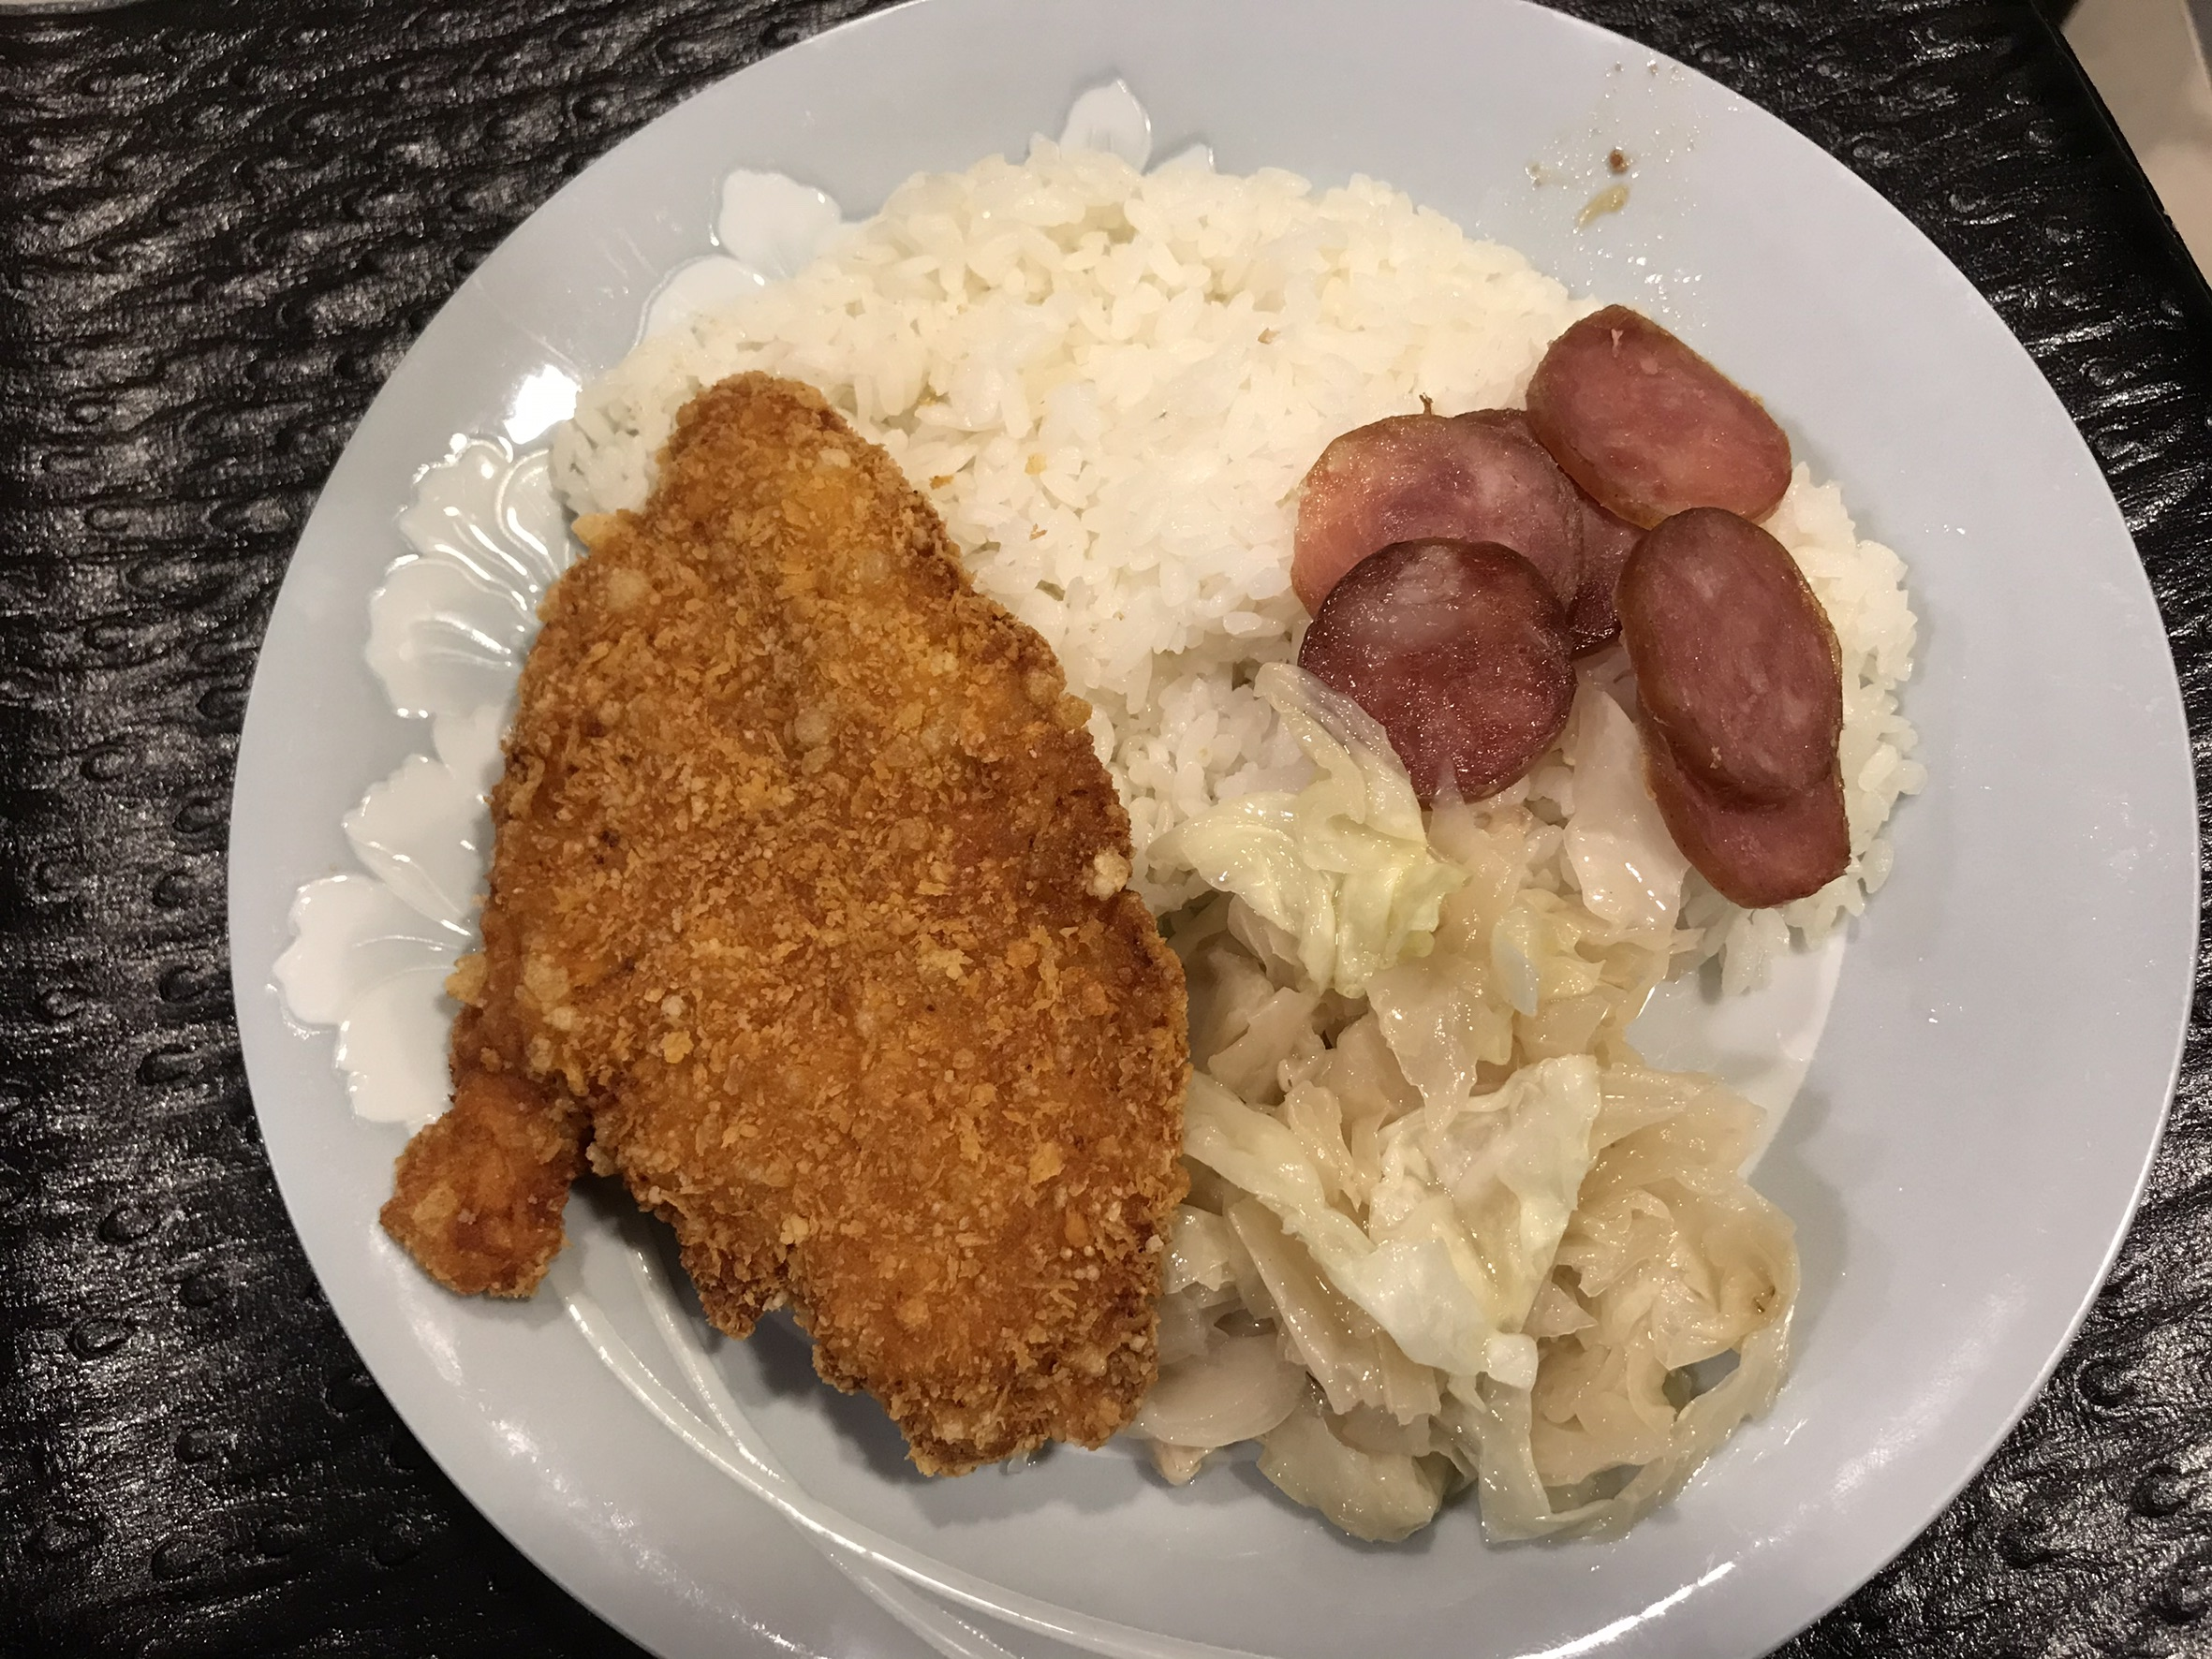chinese_cabbage: (1187, 856, 1738, 1539)
chinese_sausage: (1292, 307, 1851, 901)
fried_chicken: (404, 380, 1185, 1473)
rice: (898, 178, 1513, 624)
